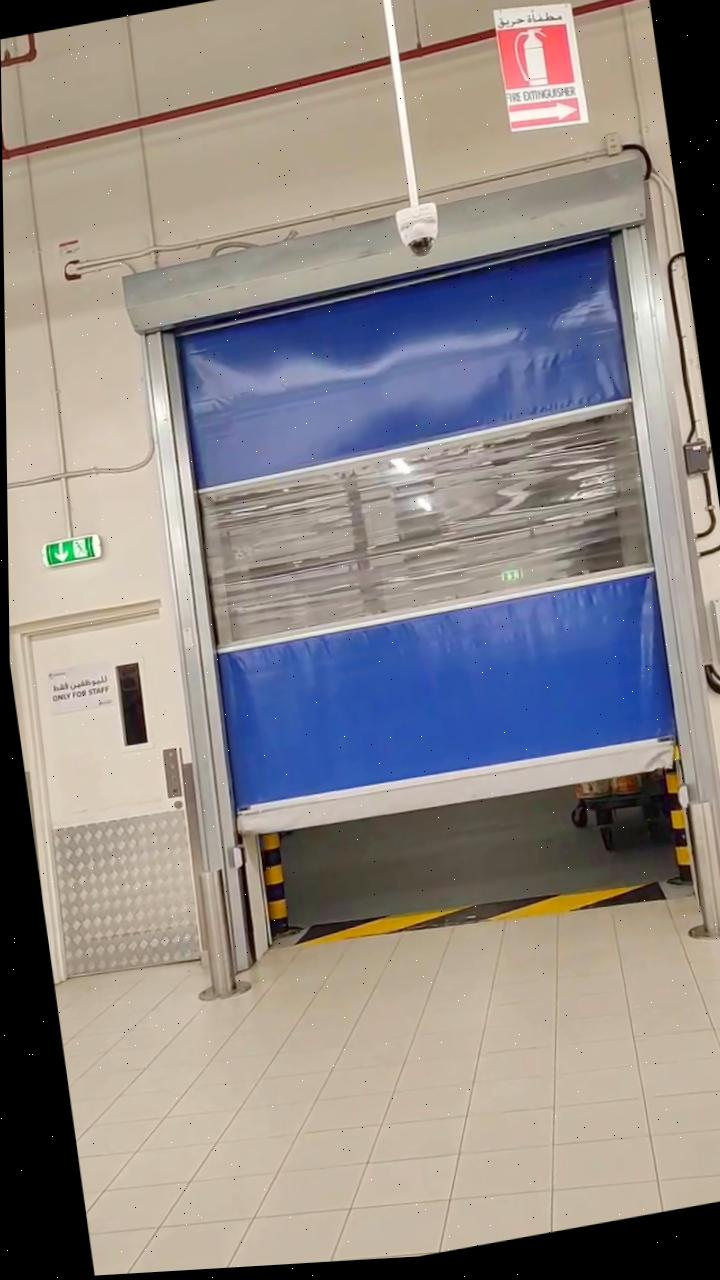Strip: (293, 859, 668, 975)
